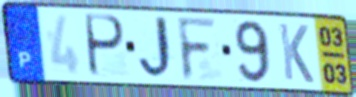4: (47, 12, 83, 77)
9: (234, 18, 273, 85)
F: (175, 16, 219, 84)
J: (137, 14, 179, 82)
K: (276, 21, 316, 85)
P: (85, 12, 128, 79)
